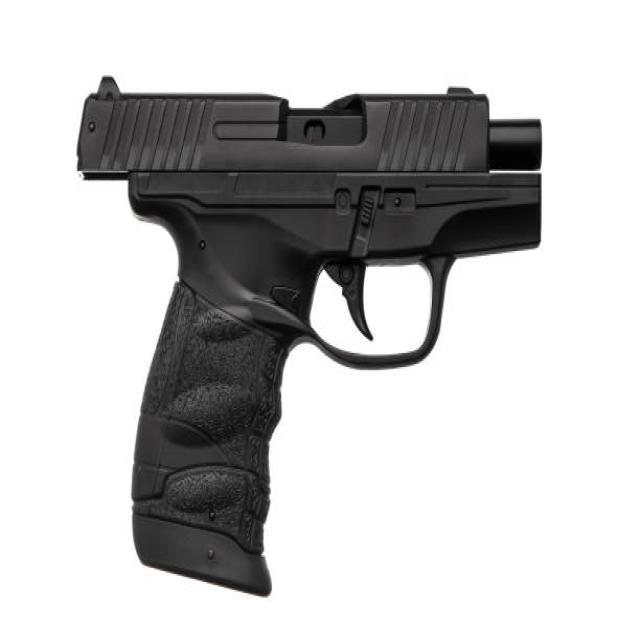pistol: (63, 59, 555, 605)
